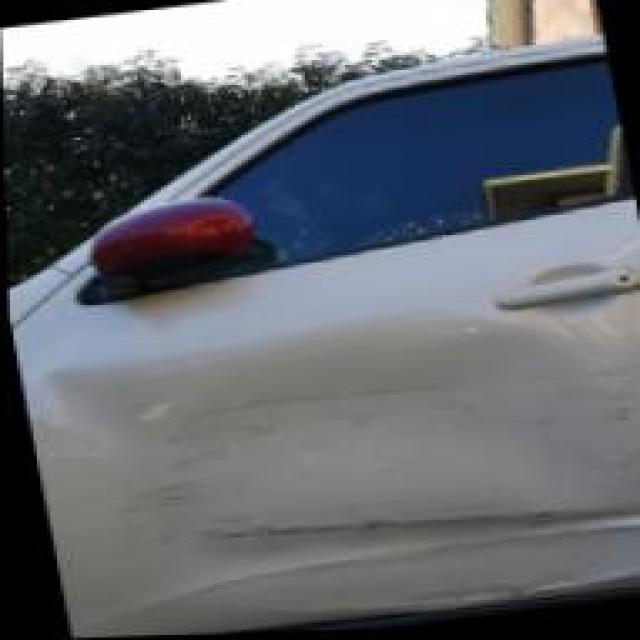Door: (90, 342, 640, 638)
